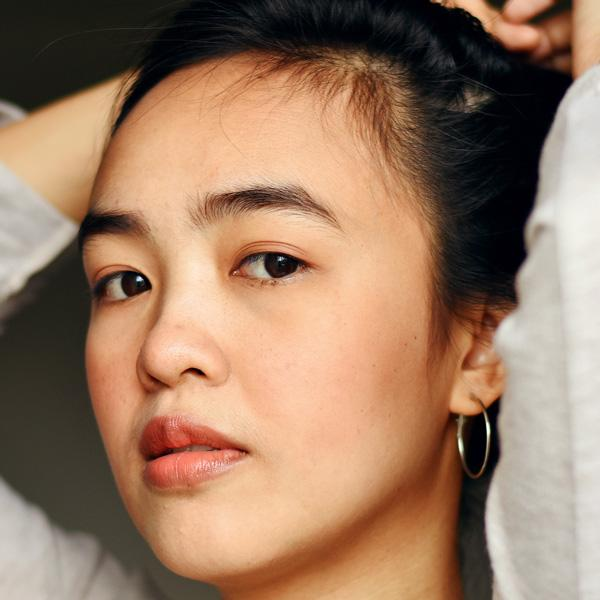Eyes: (219, 231, 326, 294), (81, 256, 168, 315)
